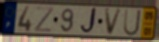4: (16, 5, 34, 34)
9: (59, 7, 77, 33)
J: (79, 6, 98, 36)
U: (122, 9, 142, 38)
V: (104, 8, 124, 37)
Z: (33, 6, 55, 34)
